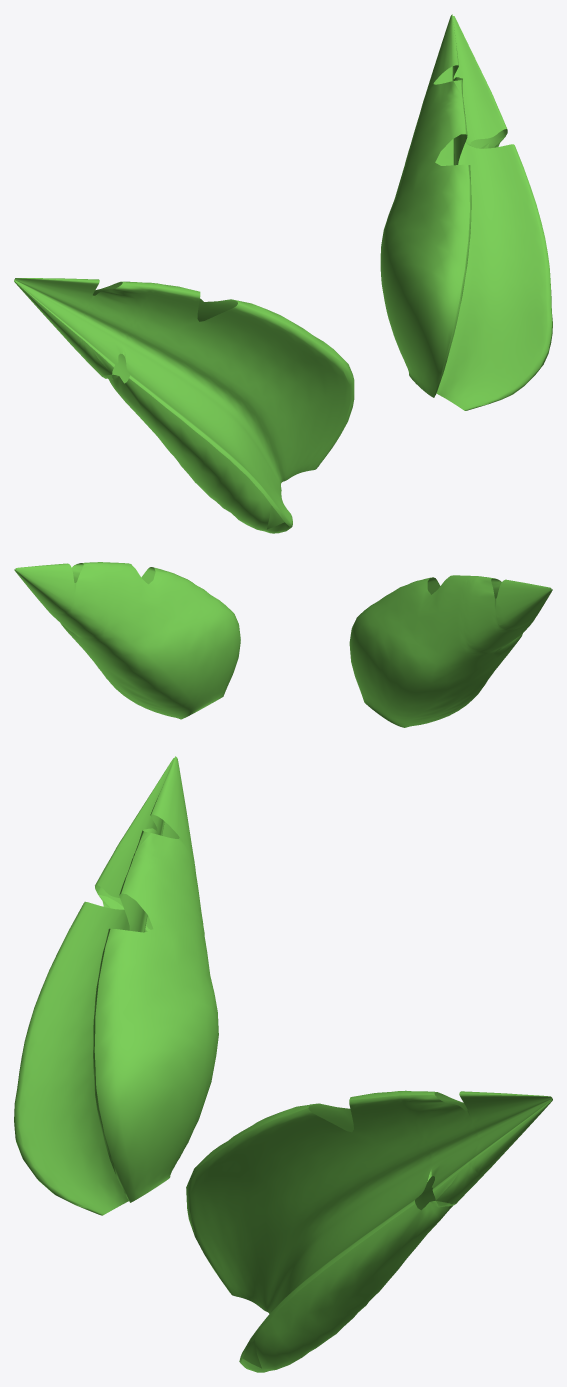
3 renders of one model, top to bottom at view 1: azimuth 30°, elevation 25°; view 2: azimuth 150°, elevation 25°; view 3: azimuth 270°, elevation 25°, orthographic. The views are drawn at different scales.
Visible parts, largest first — view 1: ears; view 2: ears; view 3: ears.
Part boxes in pixels (bbox=[...]): ears: bbox=[14, 14, 552, 533]; ears: bbox=[14, 562, 552, 727]; ears: bbox=[14, 756, 552, 1372].
Bounding box in the file's own units: 111 × 73.45 × 48.48.
